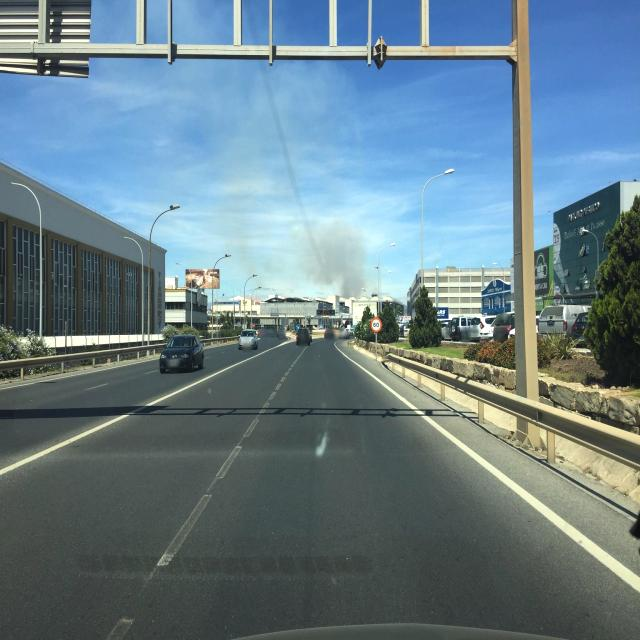car: (537, 304, 591, 341), (159, 334, 205, 374), (569, 310, 593, 346), (490, 311, 516, 342), (238, 328, 260, 351), (295, 328, 312, 347)
